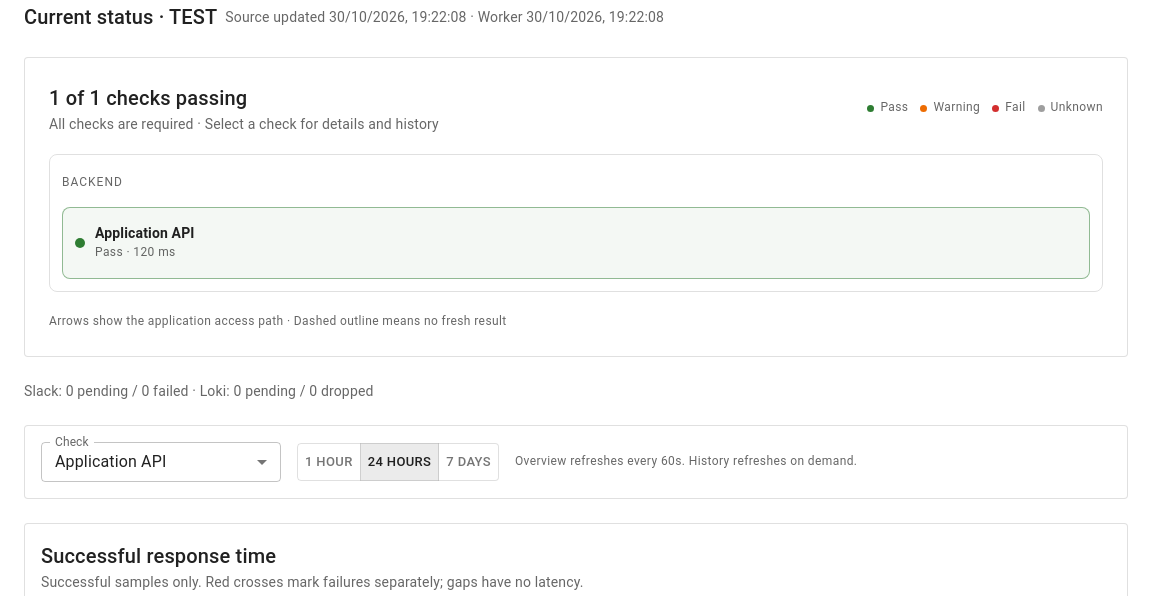
shows an expired selected range honestly without sending history or log requests
The image size is (1152, 596).
Click the button "7 days": click(469, 462) [438,442,499,481]
(page scrolled)
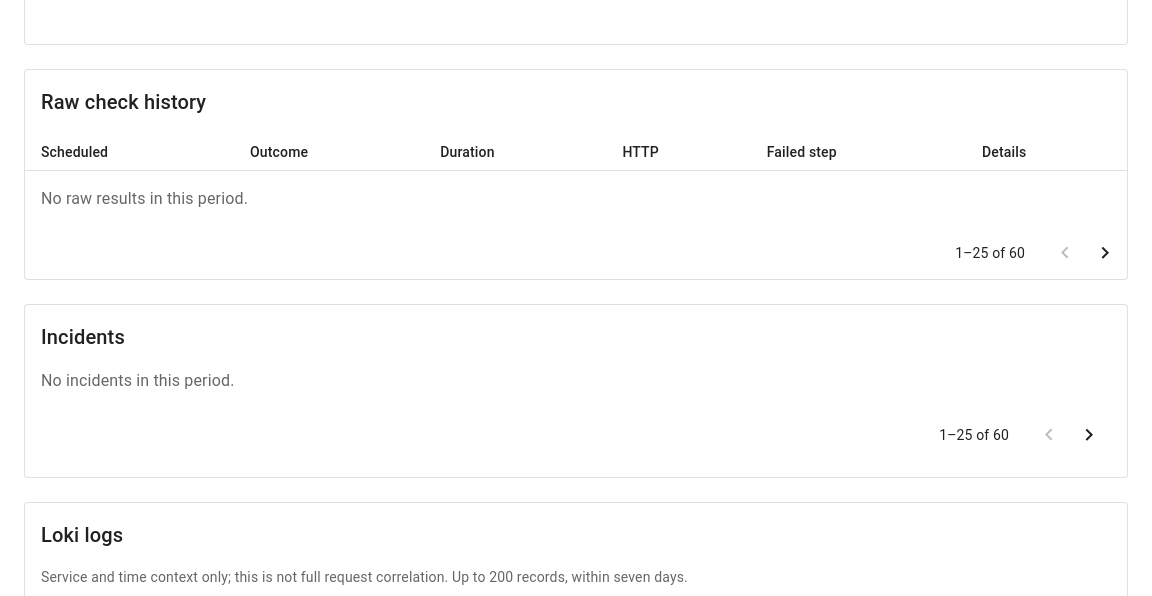
Check: the heading "Raw check history" is shown, box [41,90,206,114]
Click the button named "Go to next page" below "Failed step": click(1105, 253) [1085,233,1125,273]
(page scrolled)
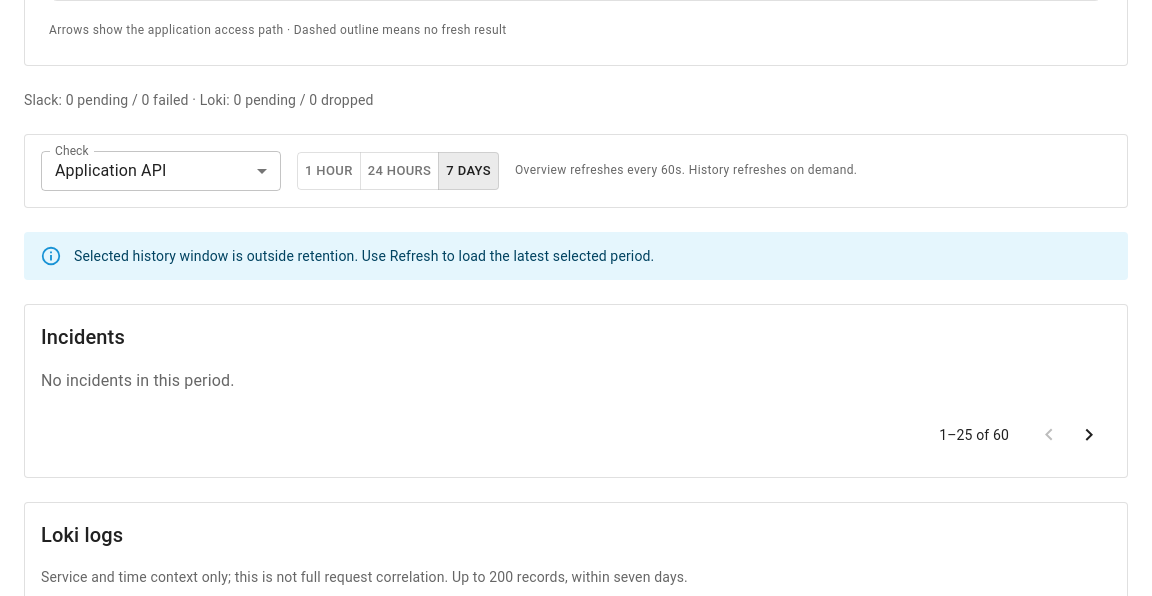
Check: the text "Selected history window is outside retention" is shown, box [74,248,654,264]
Click the button named "Go to next page": click(1089, 435) [1069,415,1109,455]
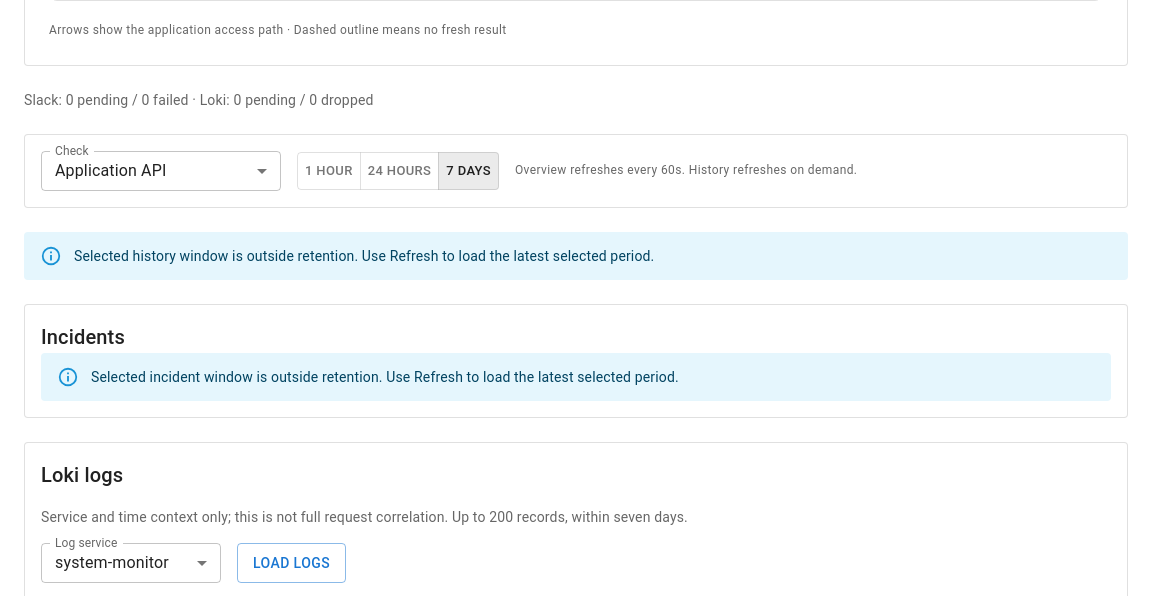
Check: the text "Selected incident window is outside retention" is shown, box [91,369,679,385]
Click the button "Load logs": click(292, 563) [237,543,346,583]
(page scrolled)
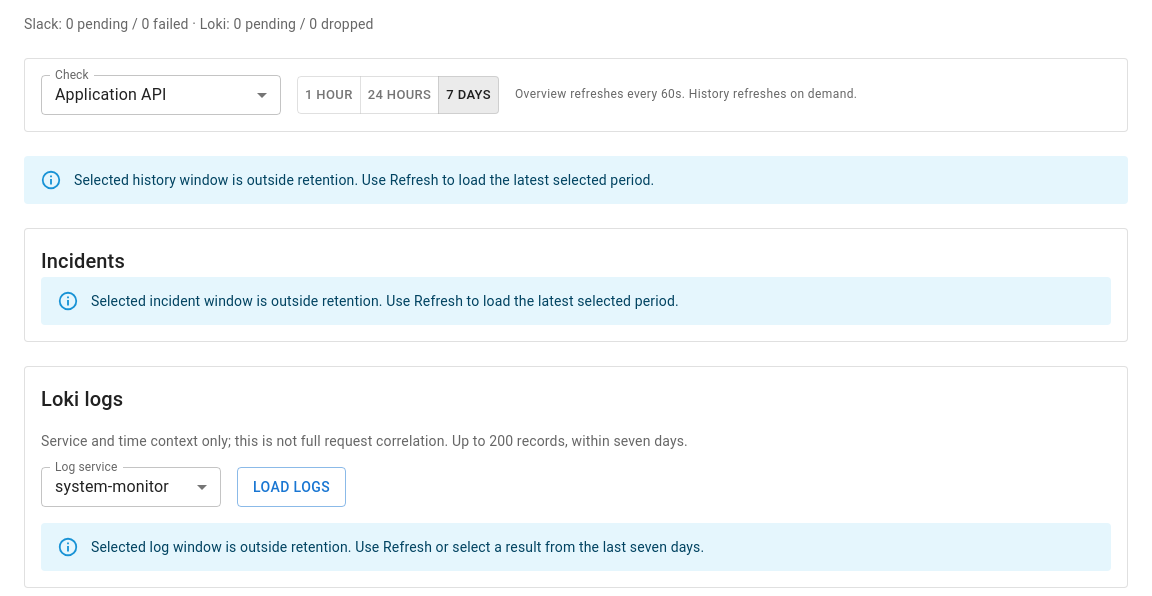
Check: the text "Selected log window is outside retention" is shown, box [91,539,704,555]
